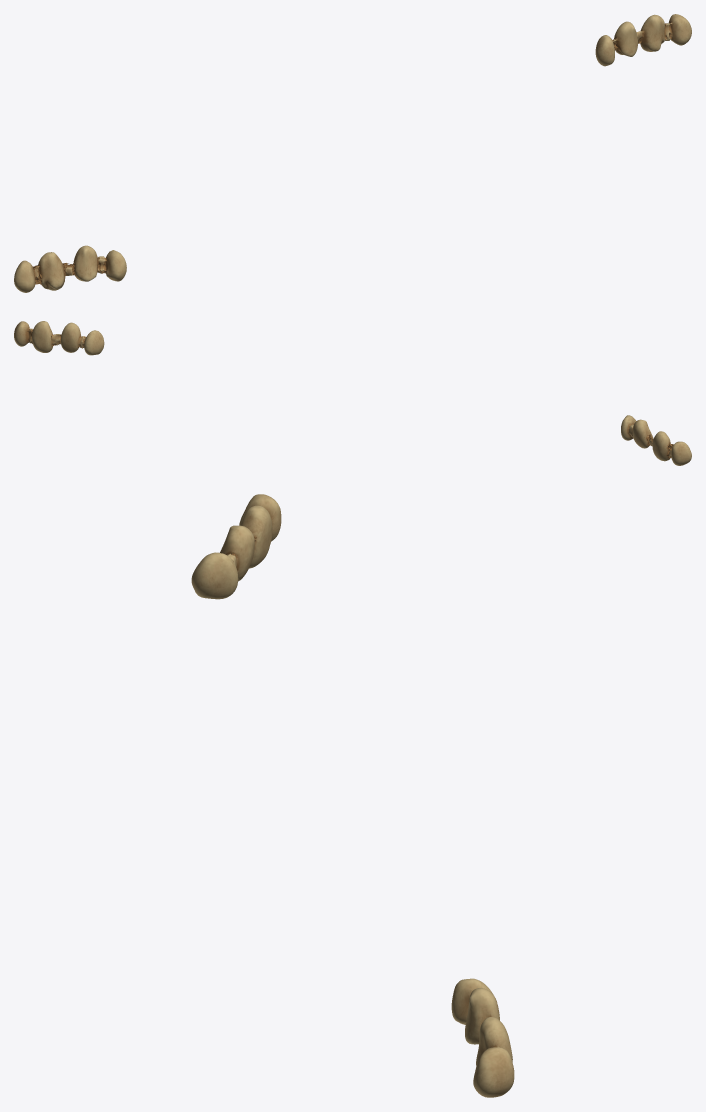
Rendered from Proximal_Sesamoids.glb.
3 views of the same model, one above another, from view 1: azimuth 30°, elevation 25°; view 2: azimuth 150°, elevation 25°; view 3: azimuth 270°, elevation 25° (orthographic). The views are drawn at different scales.
Visible parts, largest first — view 1: Group63224.001; view 2: Group63224.001; view 3: Group63224.001.
Boxes of the visible parts, box(x1,y1,x2,y2) form: Group63224.001: box(14, 14, 691, 292); Group63224.001: box(14, 321, 691, 465); Group63224.001: box(191, 494, 514, 1097).
Size of the model in its own units: 332 by 25.19 by 75.02.
1 material, 1 textured.
